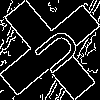U: (25, 25, 83, 82)
